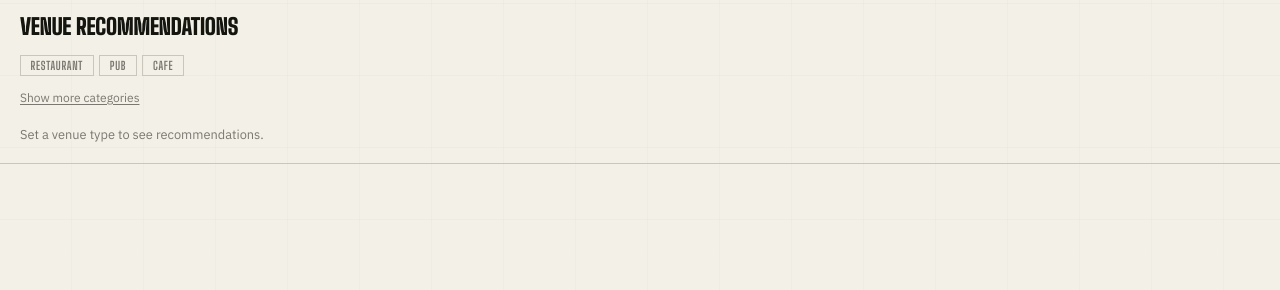
Scenario: VenueList › fetches with a single type when a chip is clicked
The image size is (1280, 290).
Click the button "Pub".
click(118, 65)  # box [99,54,137,76]
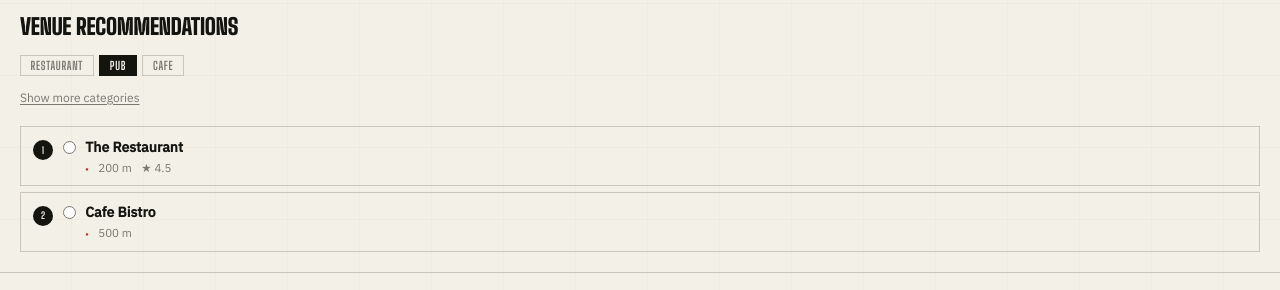
Now the link "The Restaurant" is shown, box [85,138,183,156]
